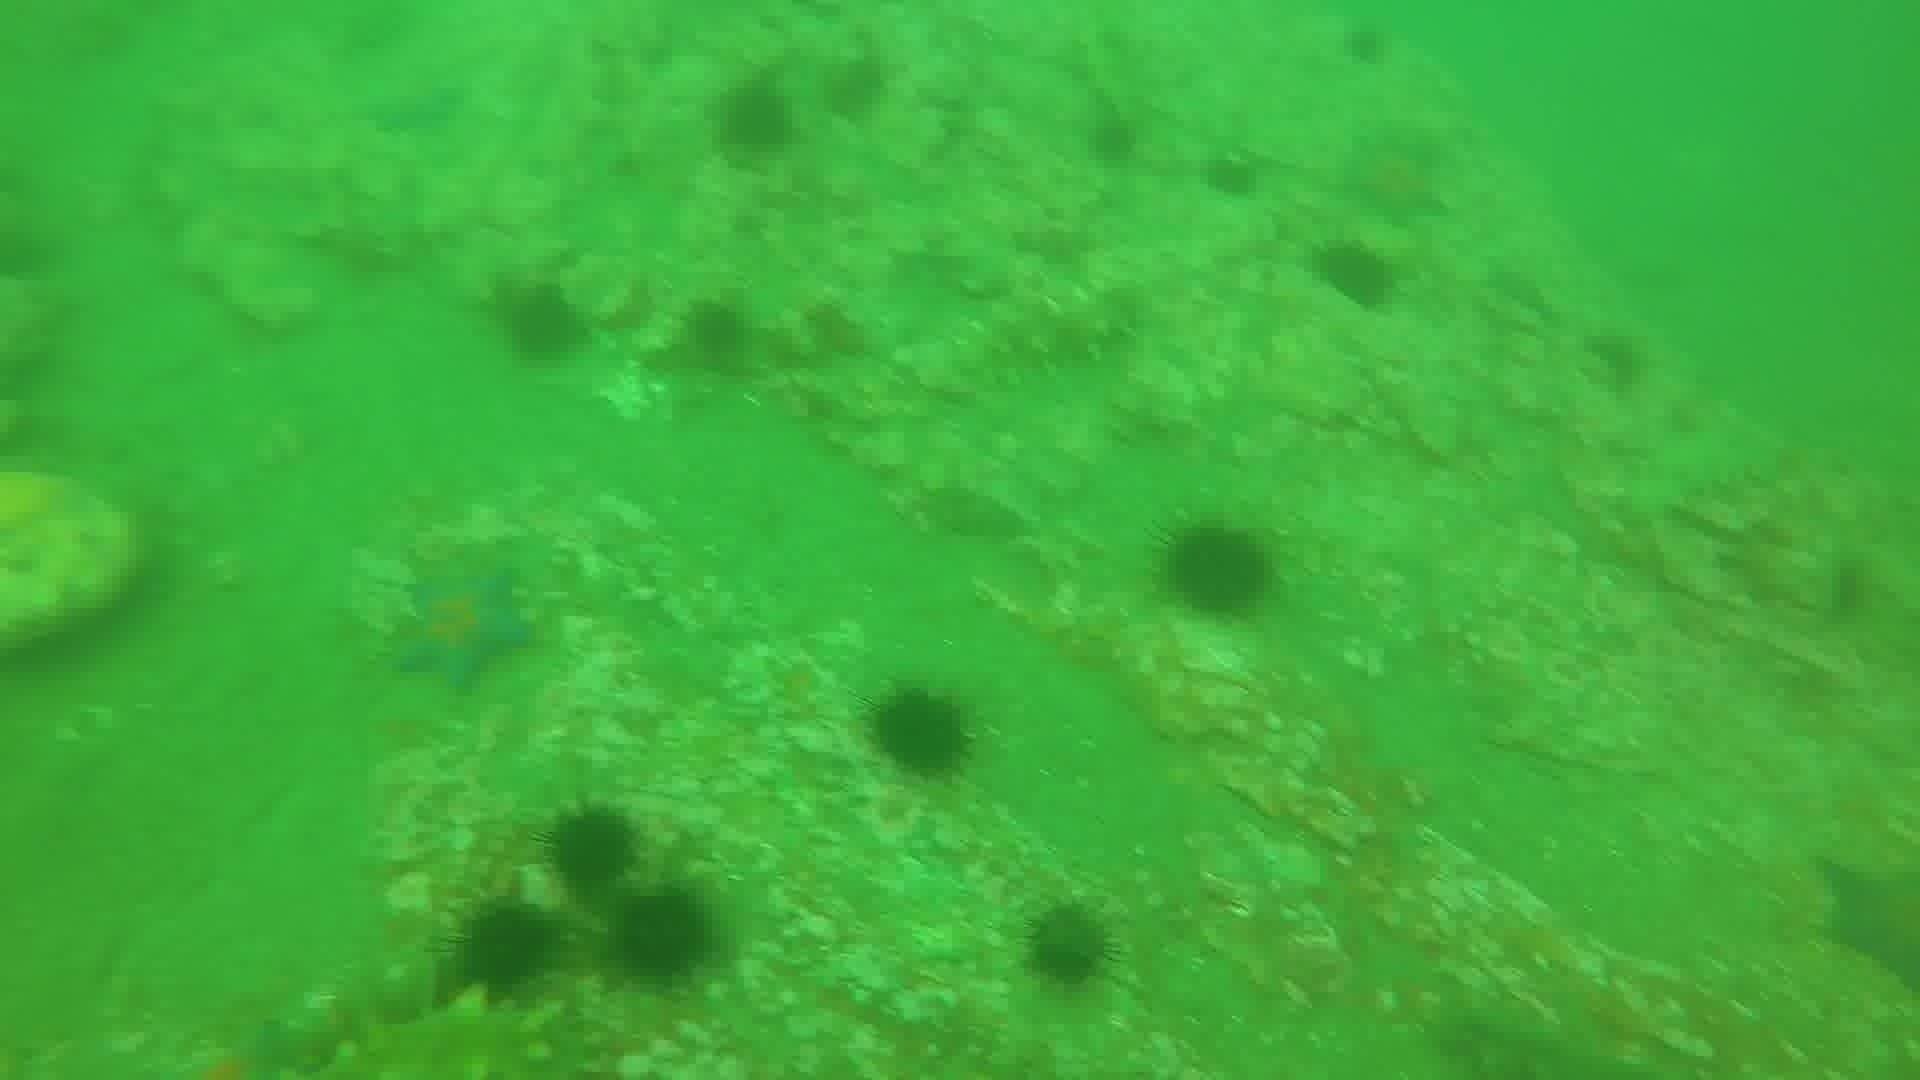echinus: (1156, 520, 1276, 622), (446, 897, 560, 1004), (864, 683, 978, 783), (608, 884, 717, 988), (541, 802, 642, 895), (1021, 898, 1120, 993), (498, 281, 588, 368), (711, 76, 800, 162), (1309, 237, 1400, 314), (676, 295, 756, 375), (816, 51, 891, 125), (1580, 326, 1652, 397), (1199, 146, 1265, 204), (1083, 109, 1145, 170), (1337, 20, 1395, 71)
holothurian: (240, 985, 578, 1075), (960, 280, 1149, 388), (1428, 1004, 1623, 1077)
starfish: (386, 556, 538, 695), (1815, 851, 1919, 996), (1337, 131, 1453, 229), (190, 1010, 345, 1075), (356, 71, 471, 138), (1480, 256, 1561, 324)
